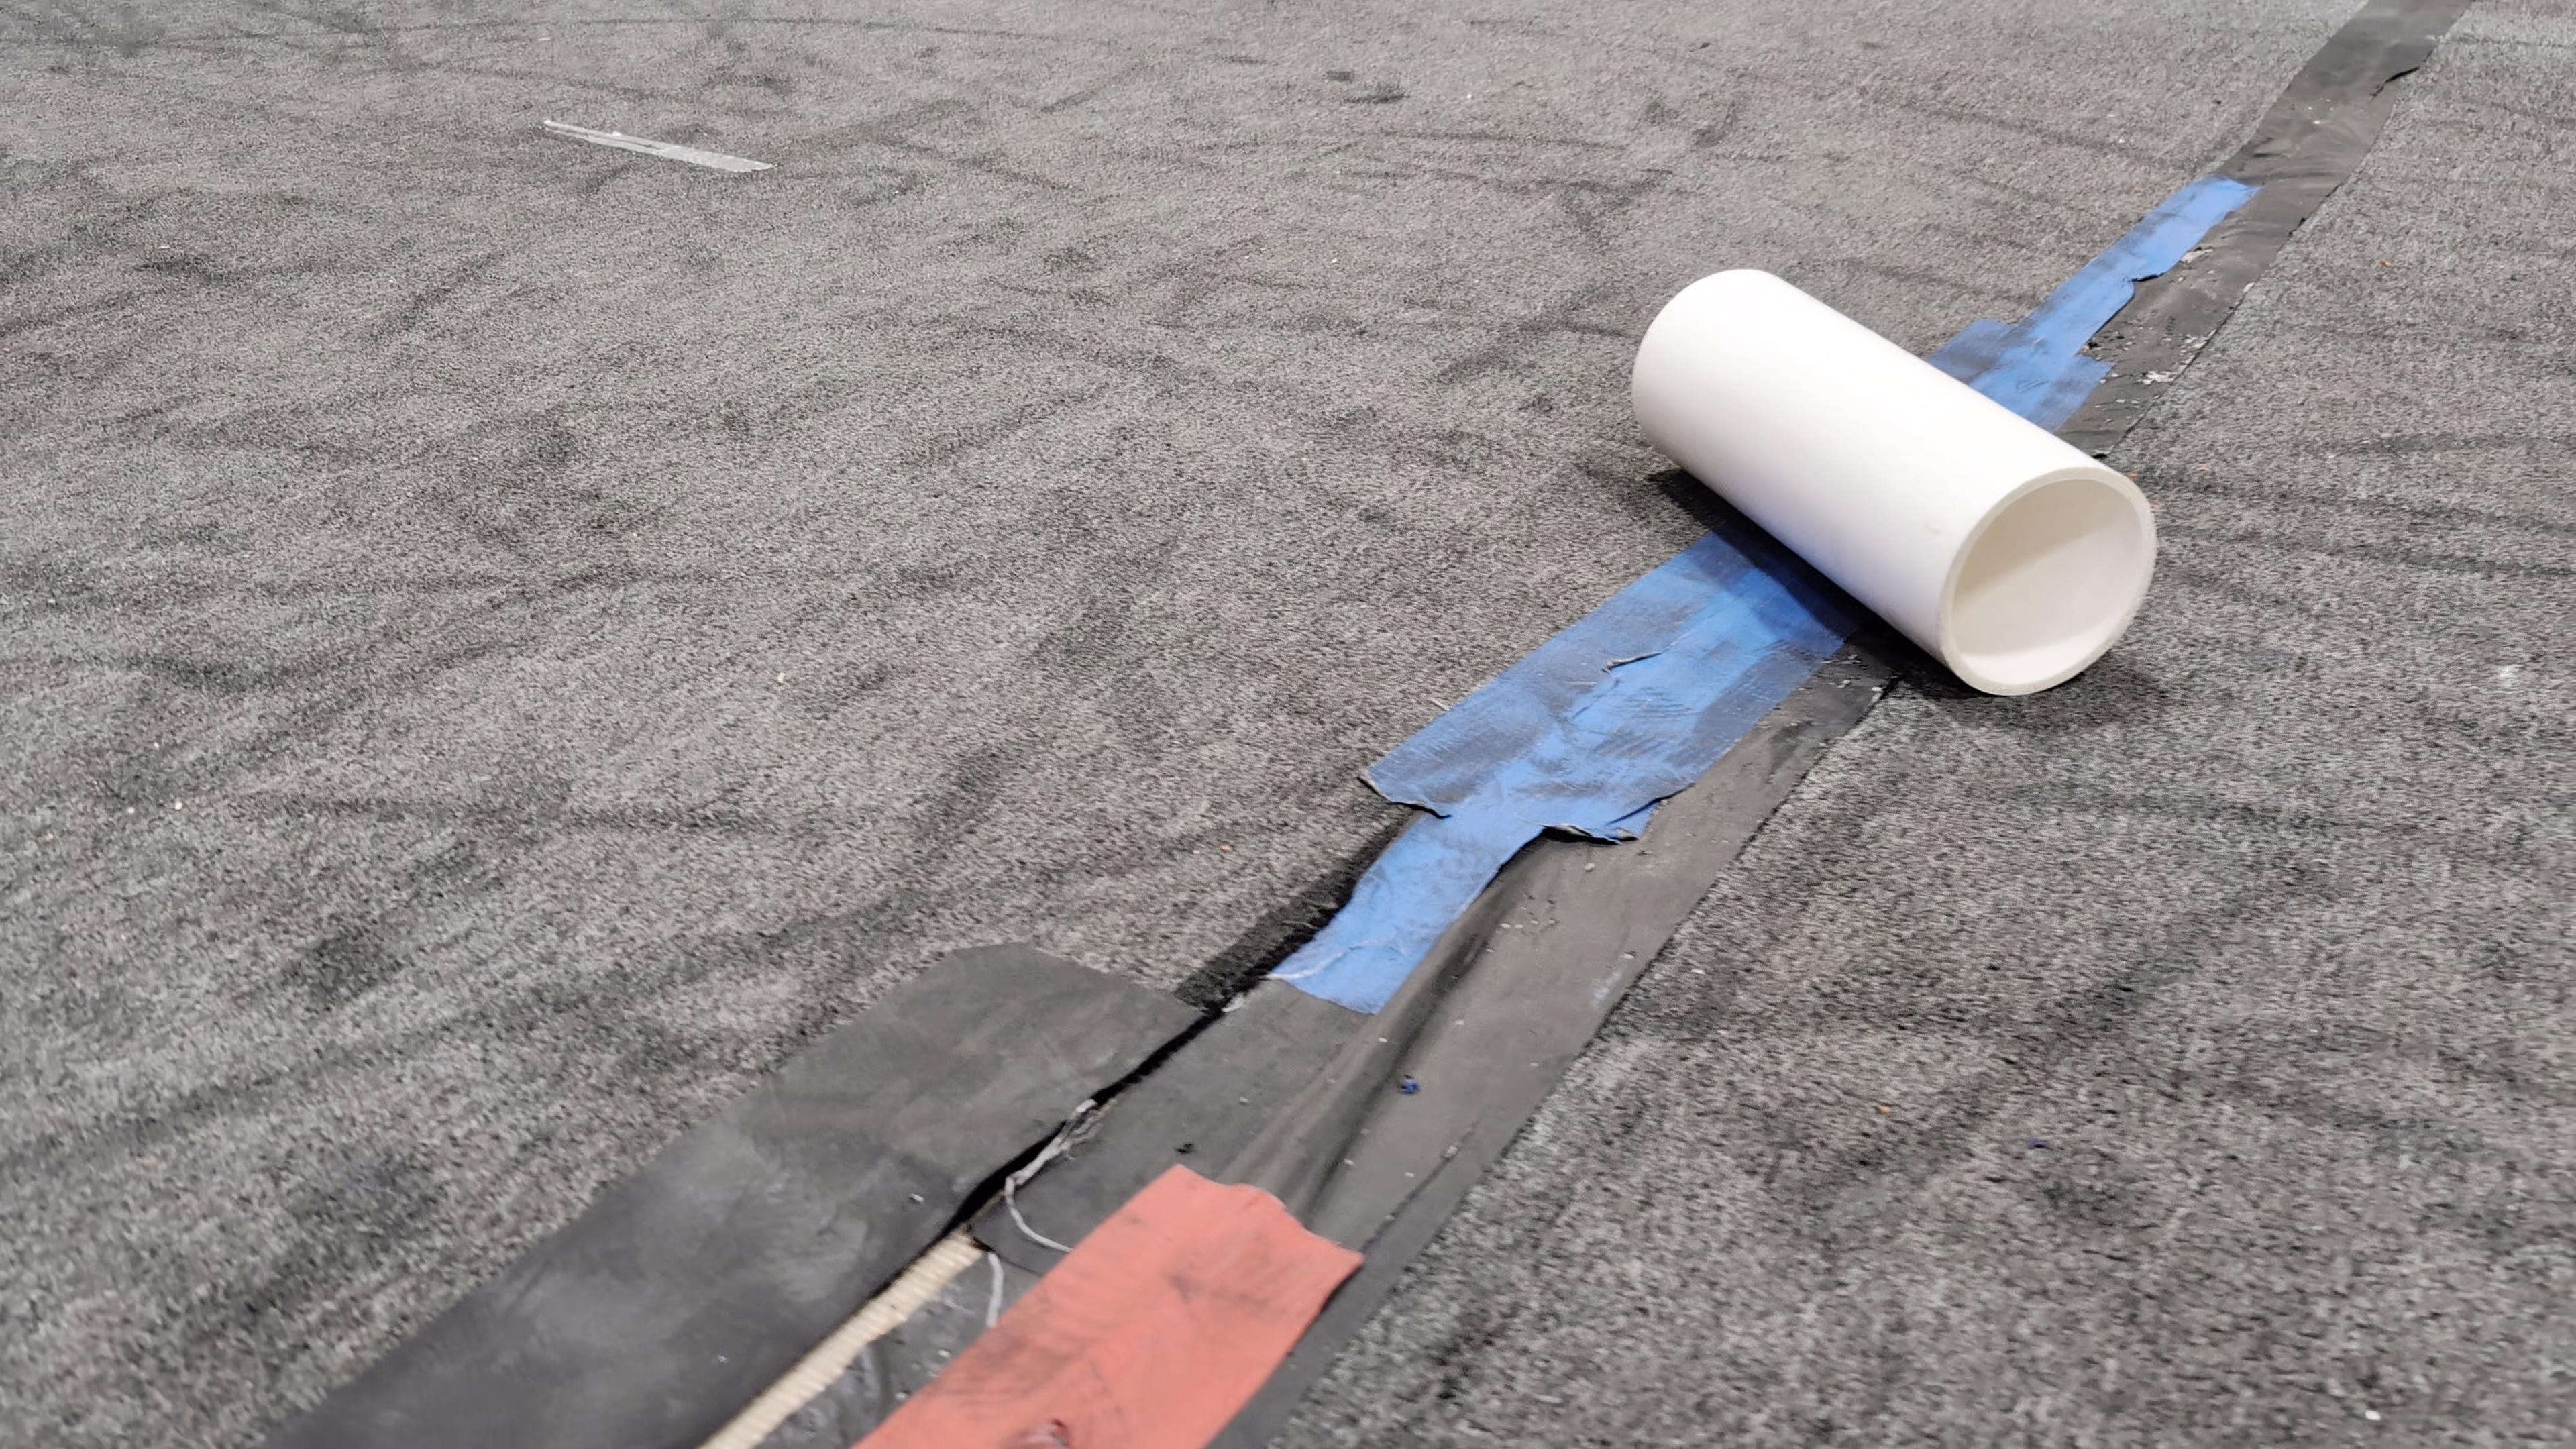coral: (1626, 260, 2158, 699)
